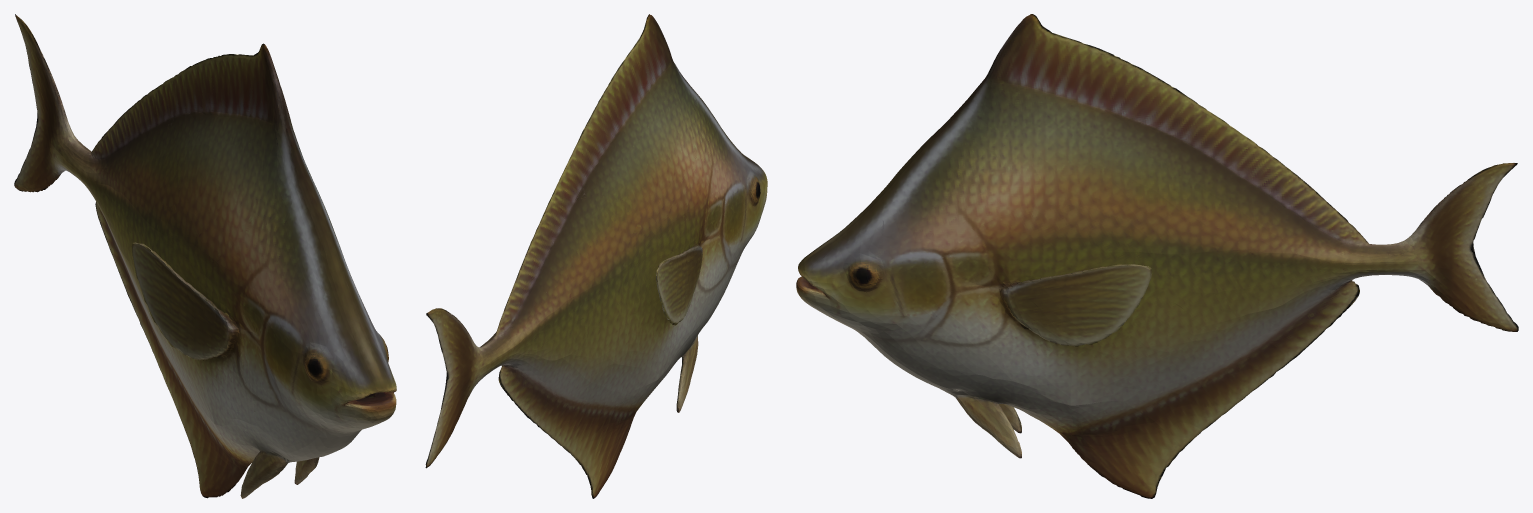
3 renders of one model, left to right at view 1: azimuth 30°, elevation 25°; view 2: azimuth 150°, elevation 25°; view 3: azimuth 270°, elevation 25°, orthographic. The views are drawn at different scales.
Parts seen in each view (by area): view 1: world; view 2: world; view 3: world.
Part boxes in pixels (box(x1,y1,x2,y2)): world: box(14, 14, 396, 498); world: box(425, 14, 767, 498); world: box(796, 14, 1518, 498).
Size of the model in its own units: 0.1101 by 0.3703 by 0.5.
Materials: 1 (1 with a texture image).
